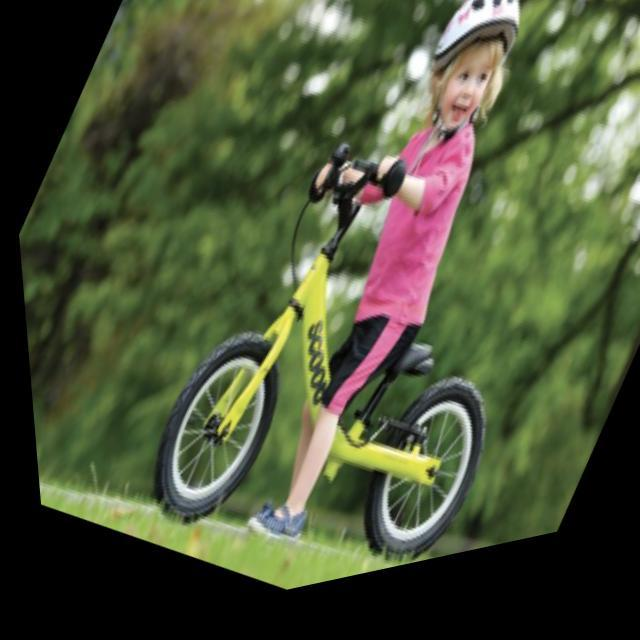Helmet: (413, 0, 532, 144)
